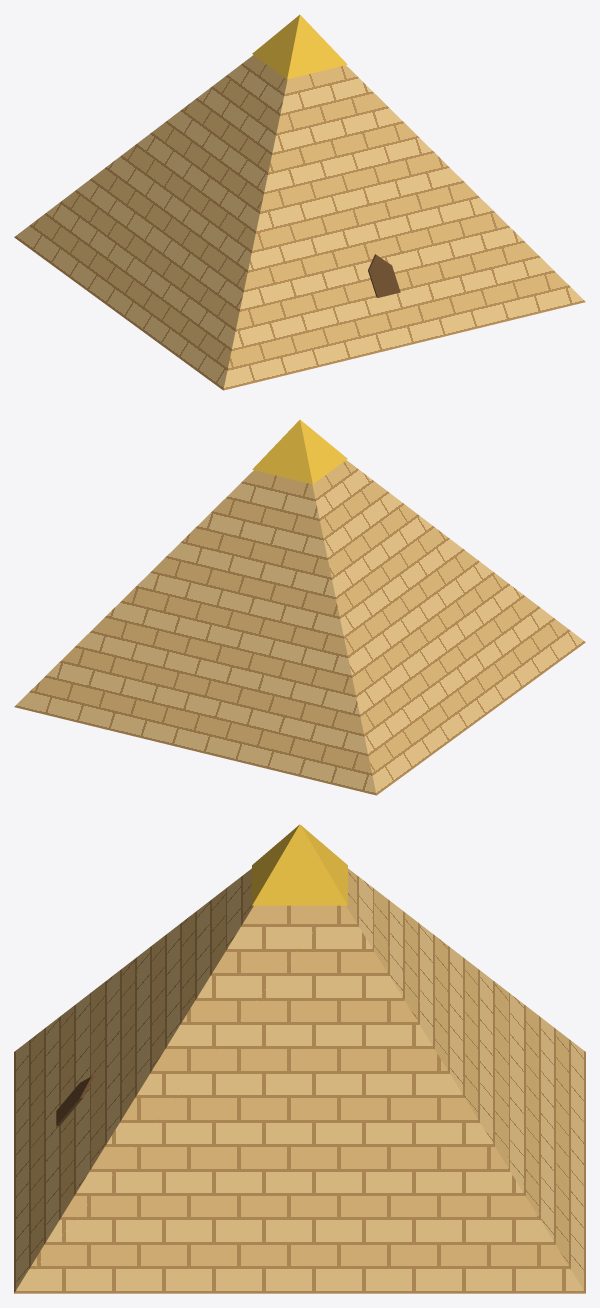
3 views of the same model, one above another, from view 1: azimuth 30°, elevation 25°; view 2: azimuth 150°, elevation 25°; view 3: azimuth 270°, elevation 25° (orthographic). The views are drawn at different scales.
Visible parts, largest first — view 1: pyramid; view 2: pyramid; view 3: pyramid.
Part boxes in pixels (bbox=[...]): pyramid: bbox=[14, 14, 585, 390]; pyramid: bbox=[14, 419, 585, 795]; pyramid: bbox=[14, 824, 585, 1293].
Bounding box in the file's own units: 2.2 × 1.48 × 2.2.
Materials: 3 (1 with a texture image).
